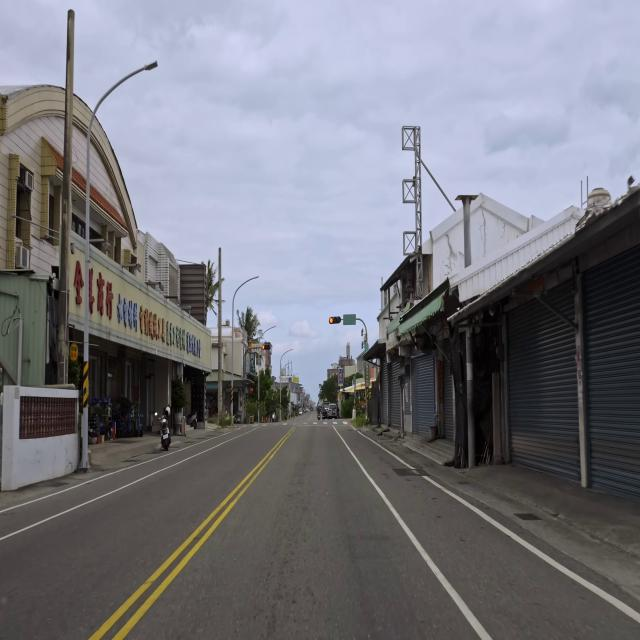red light: (329, 316, 341, 324), (262, 343, 271, 351)
